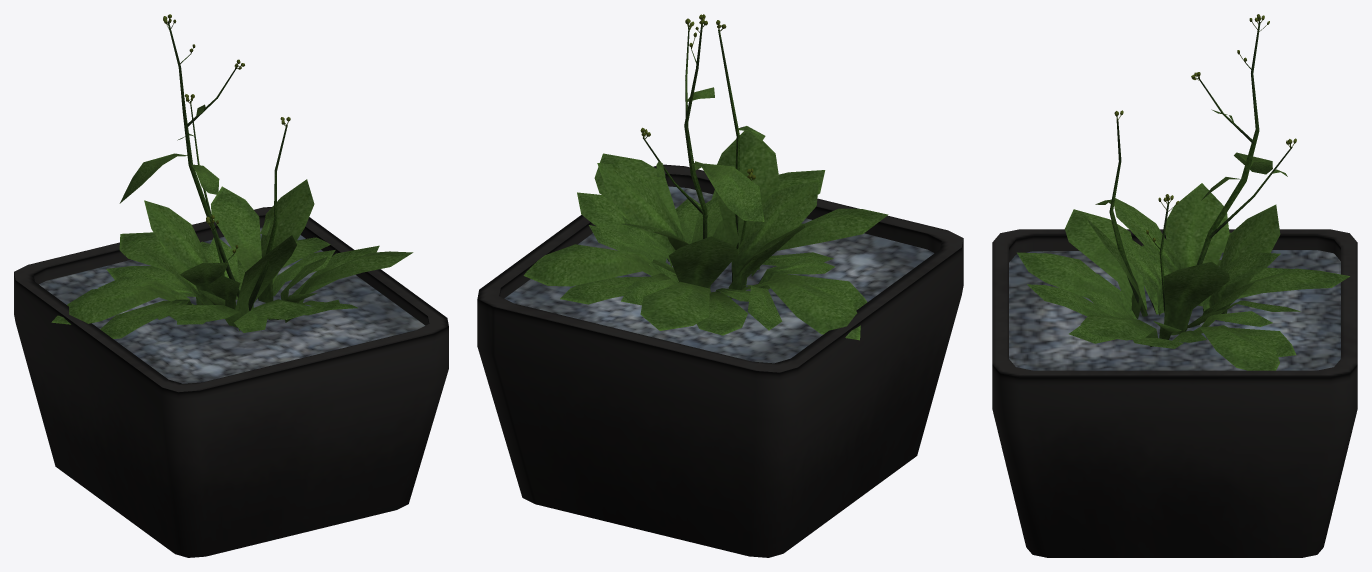
File: Athaliana.FBX
3 renders of one model, left to right at view 1: azimuth 30°, elevation 25°; view 2: azimuth 150°, elevation 25°; view 3: azimuth 270°, elevation 25°, orthographic. The views are drawn at different scales.
Visible parts, largest first — view 1: Pot3, AThaliana2Mesh, Soil3; view 2: Pot3, AThaliana2Mesh, Soil3; view 3: Pot3, AThaliana2Mesh, Soil3.
Boxes of the visible parts, x1,y1,x2,y2 form: Pot3: (14,207,448,557); AThaliana2Mesh: (51,14,413,338); Soil3: (39,227,425,383); Pot3: (477,164,963,557); AThaliana2Mesh: (523,14,888,340); Soil3: (504,186,934,363); Pot3: (992,229,1357,557); AThaliana2Mesh: (1017,14,1349,370); Soil3: (1009,250,1340,370).
Bounding box in the file's own units: 10.48 × 15.03 × 10.53.
1 material, 1 textured.
